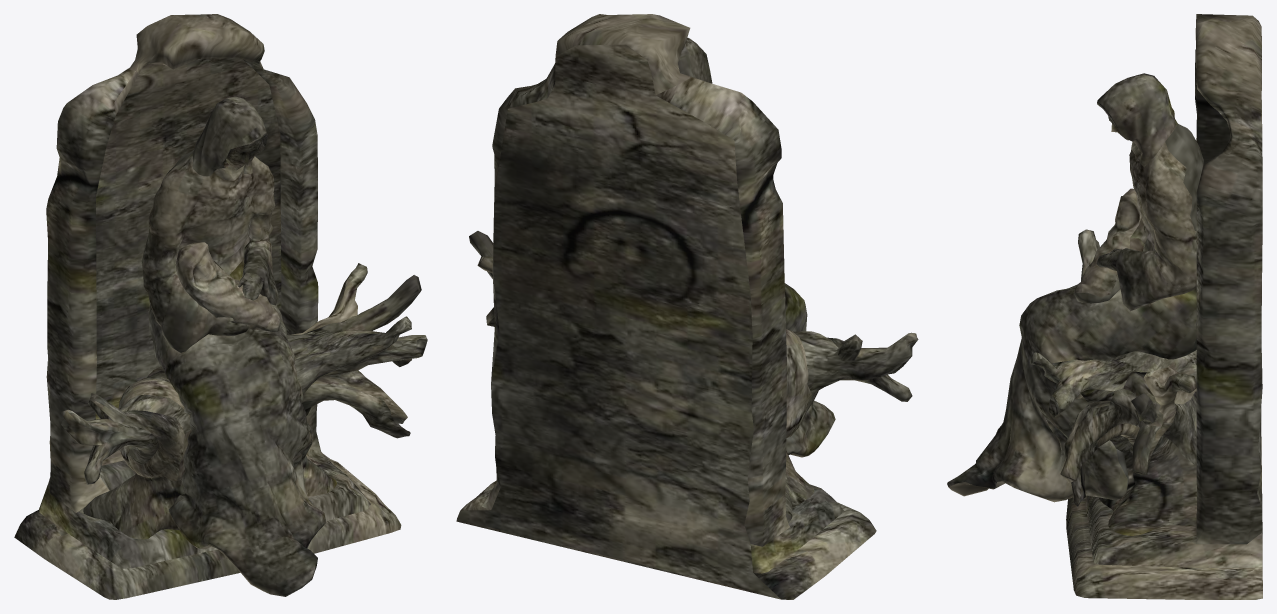
File: statue.dae
3 renders of one model, left to right at view 1: azimuth 30°, elevation 25°; view 2: azimuth 150°, elevation 25°; view 3: azimuth 270°, elevation 25°, orthographic. The views are drawn at different scales.
Parts seen in each view (by area): view 1: mesh0; view 2: mesh0; view 3: mesh0.
Boxes of the visible parts, left/top/right/bottom form: mesh0: left=14, top=14, right=427, bottom=599; mesh0: left=456, top=14, right=918, bottom=599; mesh0: left=947, top=14, right=1262, bottom=599.
Bounding box in the file's own units: 3.33 × 2.29 × 4.01.
Materials: 1 (1 with a texture image).
